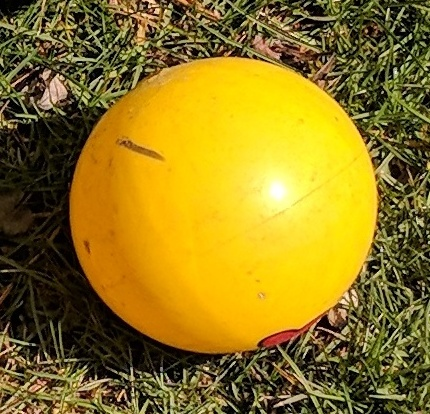ball: (69, 58, 382, 354)
